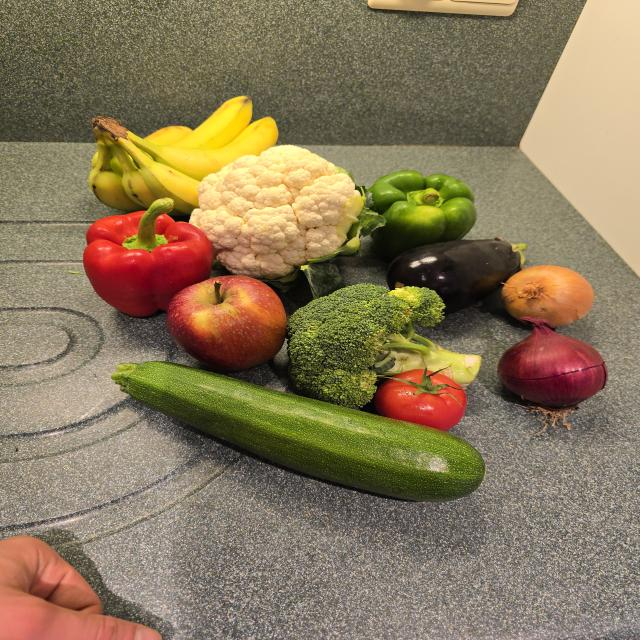Apple: (166, 276, 287, 371)
Banana: (88, 95, 279, 214)
Bell Pepper: (83, 197, 213, 317), (369, 171, 476, 254)
Broccoli: (288, 284, 481, 407)
Cauliflower: (190, 145, 368, 279)
Courgette: (112, 362, 485, 501)
Eggplant: (387, 238, 527, 314)
Onion: (497, 317, 607, 408), (501, 265, 594, 327)
Tomato: (374, 368, 466, 431)
